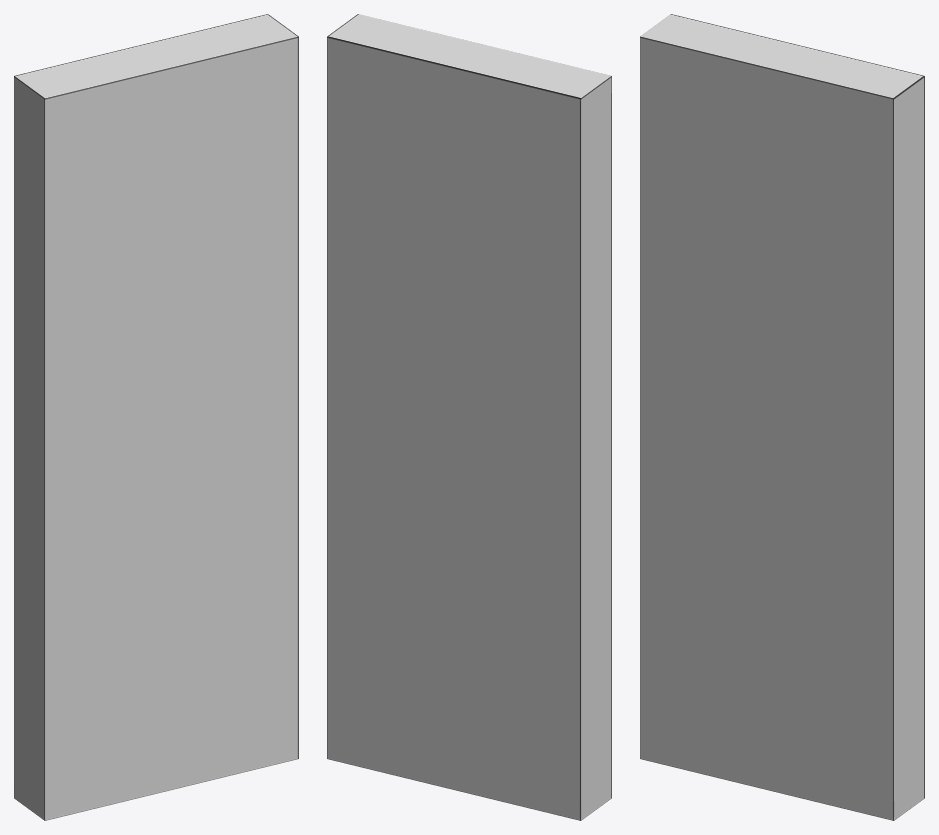
The model's file is test-ship-hangar.fbx.
3 views of the same model, side by side, from view 1: azimuth 30°, elevation 25°; view 2: azimuth 150°, elevation 25°; view 3: azimuth 330°, elevation 25° (orthographic).
Visible parts, largest first — view 1: hull; view 2: hull; view 3: hull.
Part boxes in pixels (bbox=[...]): hull: bbox=[14, 14, 298, 820]; hull: bbox=[327, 14, 611, 820]; hull: bbox=[640, 14, 924, 820].
Size of what is drawn, in the model's own units: 57 by 155 by 12.
